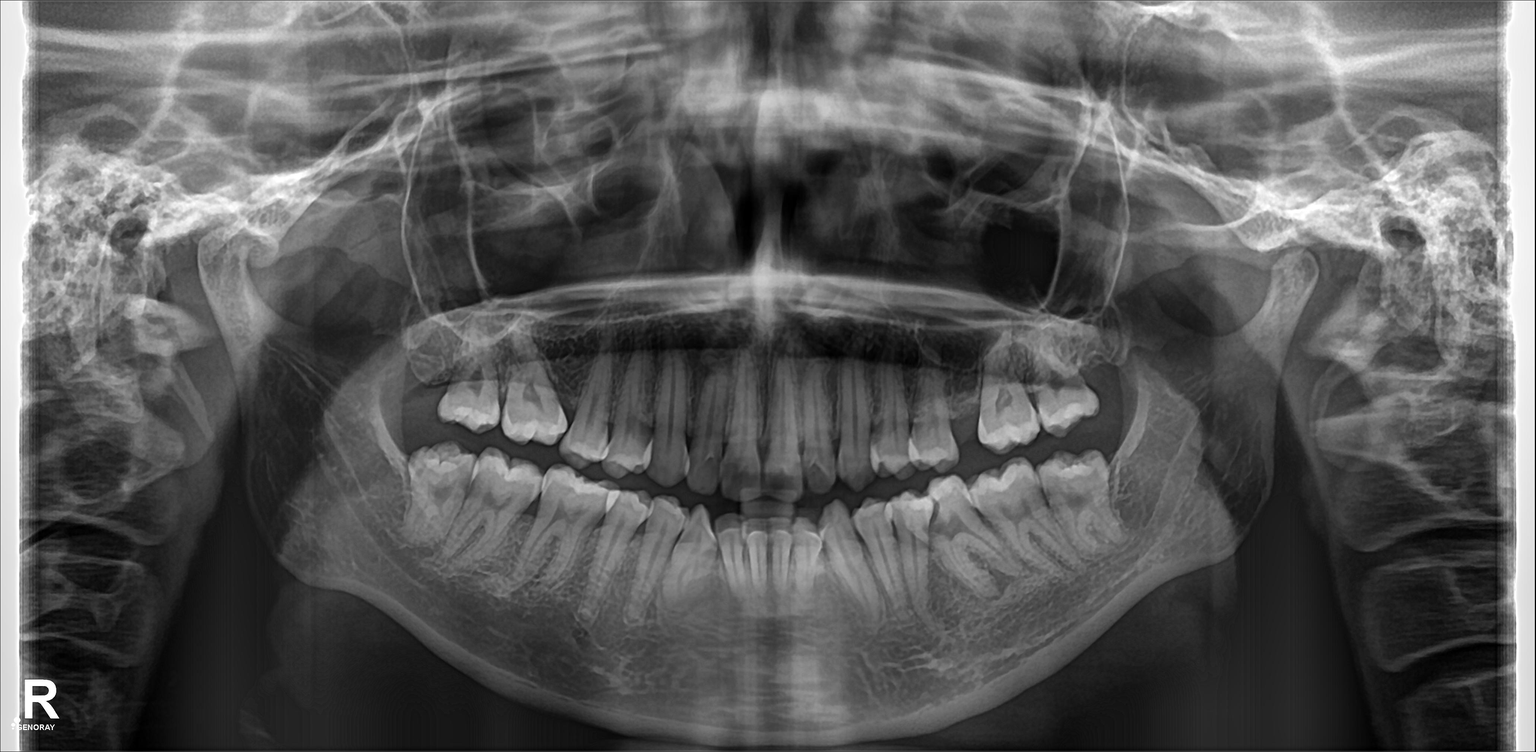Dental Caries: (723, 460, 761, 492)
Missing Tooth: (410, 339, 450, 419), (948, 374, 986, 453), (1078, 342, 1126, 404)
